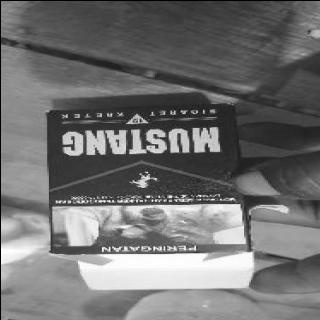objects: (45, 102, 253, 254)
